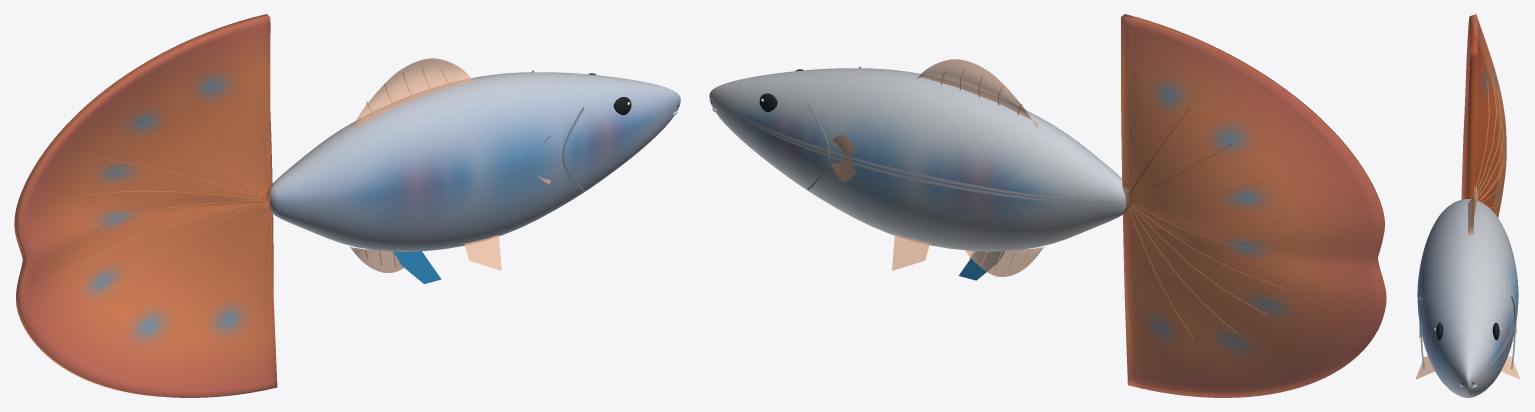
Rendered from Guppy_Hero.fbx.
3 views of the same model, side by side, from view 1: azimuth 30°, elevation 25°; view 2: azimuth 150°, elevation 25°; view 3: azimuth 270°, elevation 25° (orthographic). The views are drawn at different scales.
Parts seen in each view (by area): view 1: Guppy fan tail.001, Guppy Hero Body, Guppy dorsal fin.001, Guppy pelvic fin, Guppy gonopodium, Guppy anal fin.001; view 2: Guppy fan tail.001, Guppy Hero Body, Guppy dorsal fin.001, Guppy anal fin.001, Guppy pelvic fin.001, Guppy gonopodium, Guppy pectoral fin.003; view 3: Guppy Hero Body, Guppy fan tail.001, Guppy dorsal fin.001, Guppy pelvic fin, Guppy pelvic fin.001, Guppy gill seam.002, Guppy gill seam.003, Guppy caudal ray.021, Guppy caudal ray.020, Guppy caudal ray.022, Guppy caudal ray.019.
Part boxes in pixels (x1,y1,x2,y2): Guppy fan tail.001: [14, 14, 277, 397]; Guppy Hero Body: [266, 72, 680, 251]; Guppy dorsal fin.001: [353, 58, 473, 126]; Guppy pelvic fin: [464, 235, 501, 270]; Guppy gonopodium: [393, 251, 441, 284]; Guppy anal fin.001: [349, 246, 403, 272]; Guppy fan tail.001: [1121, 14, 1386, 397]; Guppy Hero Body: [709, 68, 1131, 251]; Guppy dorsal fin.001: [917, 59, 1038, 127]; Guppy anal fin.001: [965, 247, 1044, 276]; Guppy pelvic fin.001: [892, 234, 929, 270]; Guppy gonopodium: [958, 251, 1004, 280]; Guppy pectoral fin.003: [831, 133, 856, 182]; Guppy Hero Body: [1417, 199, 1518, 397]; Guppy fan tail.001: [1461, 14, 1506, 217]; Guppy dorsal fin.001: [1468, 184, 1476, 234]; Guppy pelvic fin: [1415, 356, 1434, 379]; Guppy pelvic fin.001: [1501, 356, 1520, 379]; Guppy gill seam.002: [1420, 296, 1424, 369]; Guppy gill seam.003: [1511, 296, 1515, 369]; Guppy caudal ray.021: [1477, 78, 1496, 191]; Guppy caudal ray.020: [1477, 88, 1501, 194]; Guppy caudal ray.022: [1473, 81, 1489, 195]; Guppy caudal ray.019: [1477, 109, 1504, 199].
Size of the model in its own units: 1.33 by 0.7011 by 0.21.
Materials: 9 (2 with a texture image).
